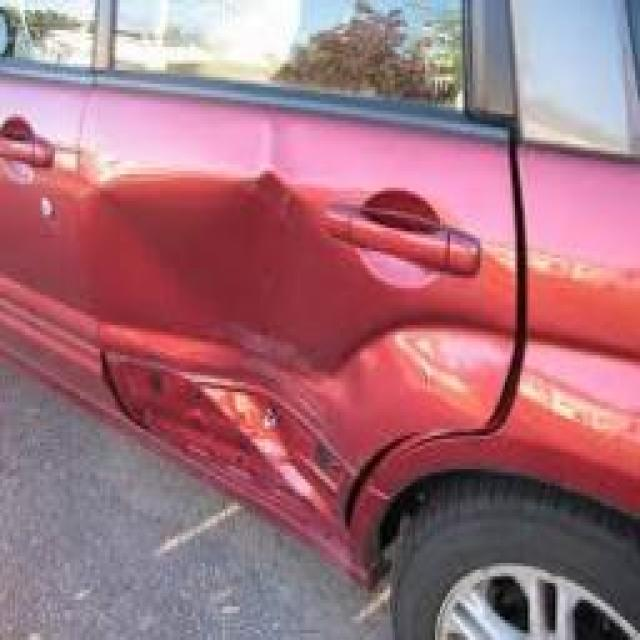replaceable: (112, 150, 471, 578)
